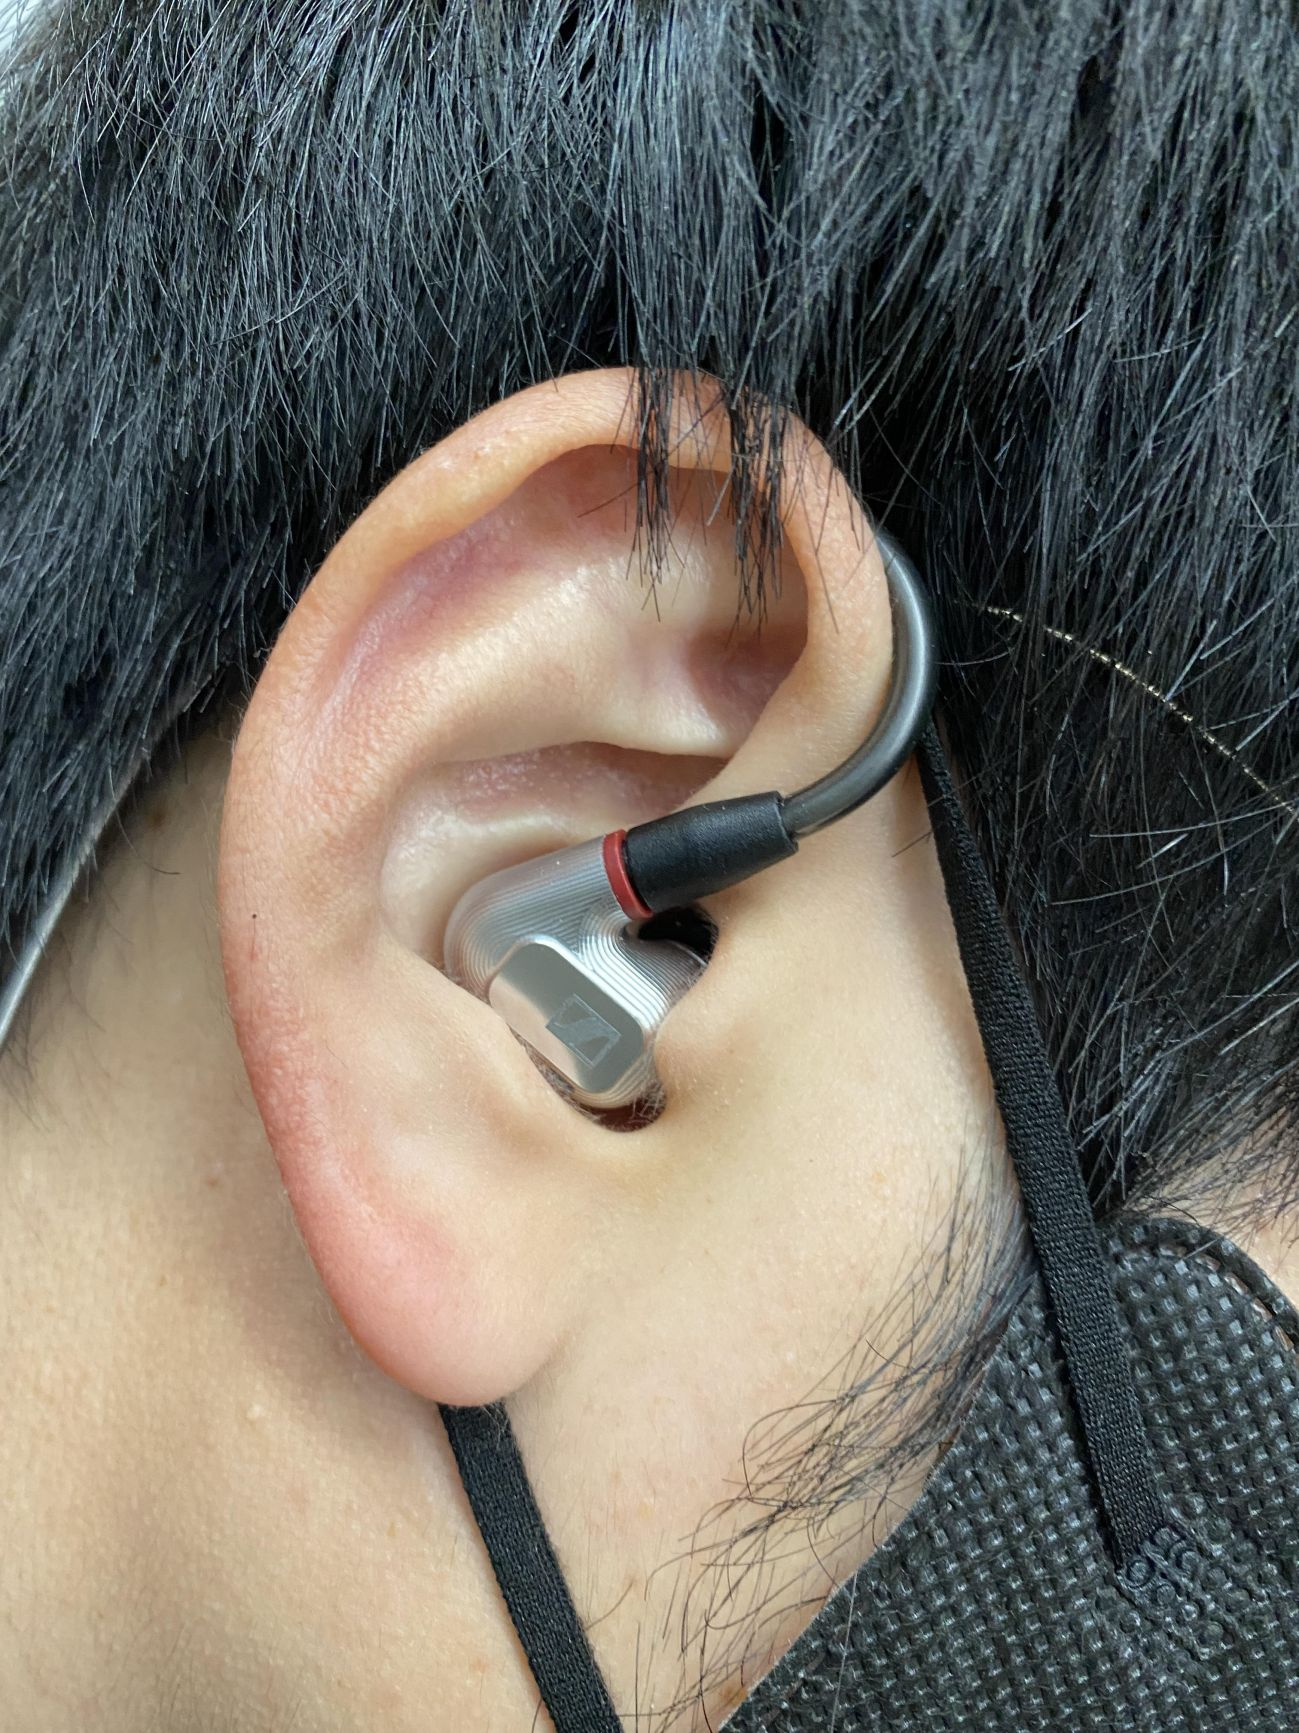earphone: (221, 362, 895, 1410)
